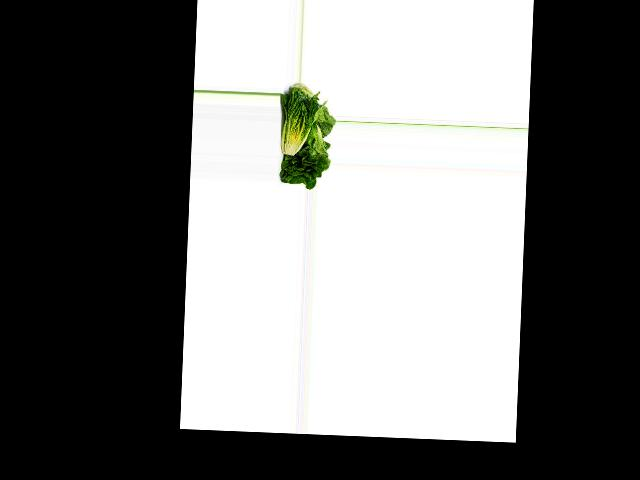lettuce: (275, 124, 331, 188)
